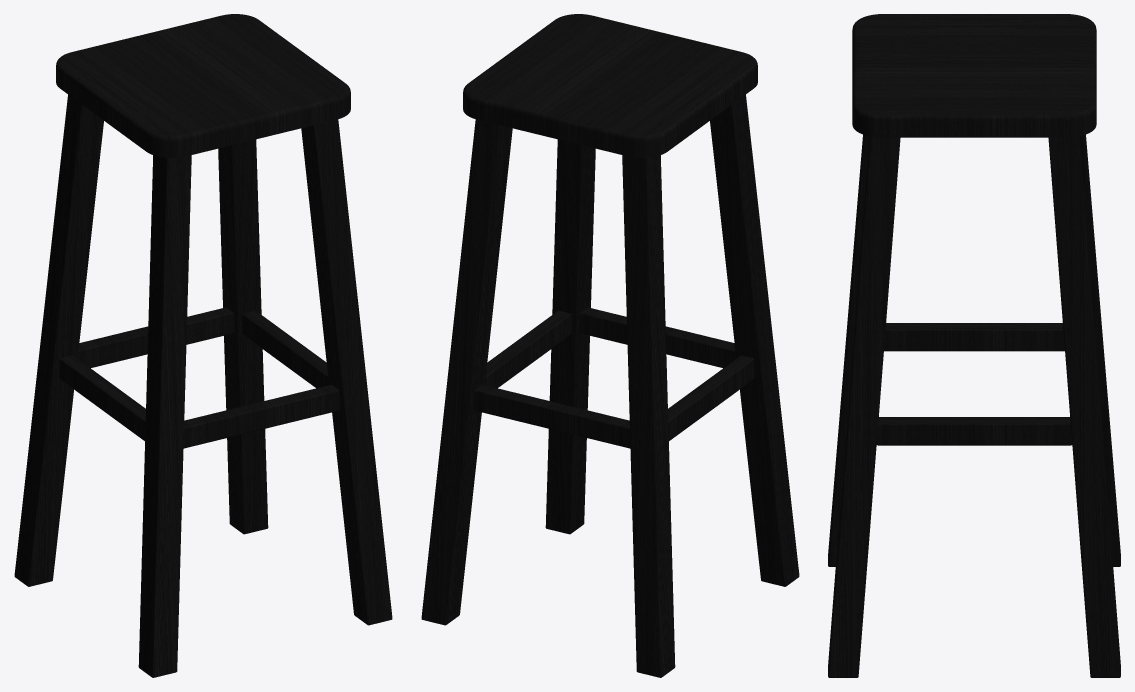
The model's file is Stool.fbx.
3 views of the same model, side by side, from view 1: azimuth 30°, elevation 25°; view 2: azimuth 150°, elevation 25°; view 3: azimuth 270°, elevation 25° (orthographic). The views are drawn at different scales.
Parts seen in each view (by area): view 1: Stool; view 2: Stool; view 3: Stool.
Part boxes in pixels (<box>): Stool: <box>14,14,392,677</box>; Stool: <box>421,14,799,677</box>; Stool: <box>828,14,1120,677</box>.
Size of the model in its own units: 367 by 764 by 367.
Materials: 1 (1 with a texture image).
